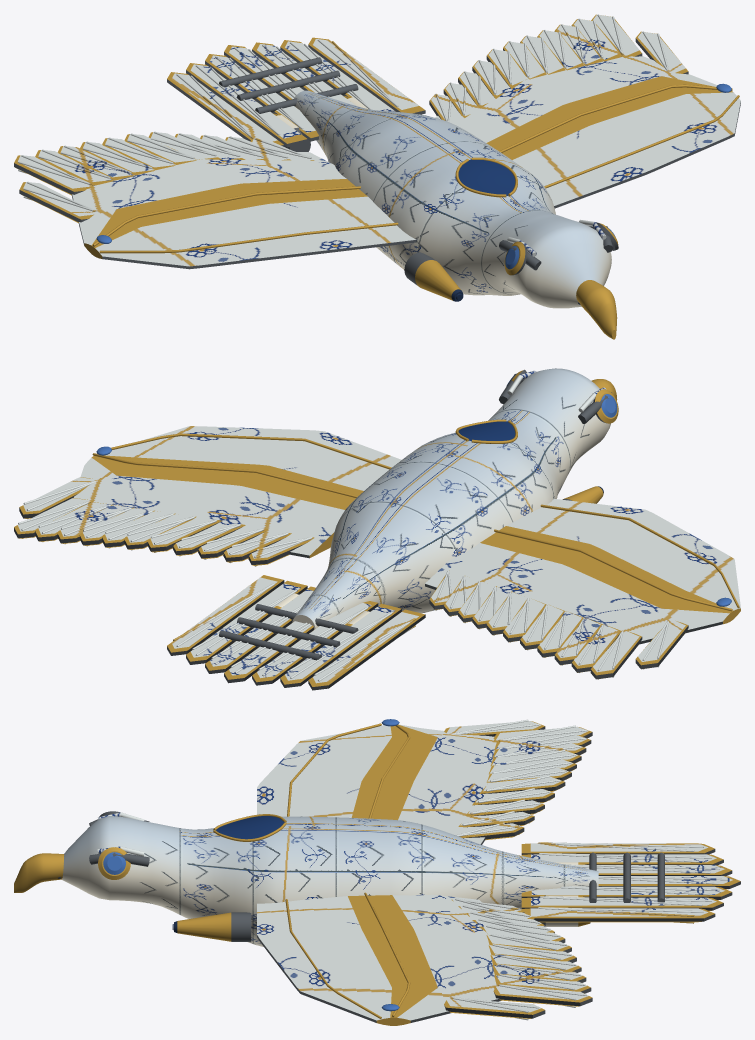
3 views of the same model, one above another, from view 1: azimuth 30°, elevation 25°; view 2: azimuth 150°, elevation 25°; view 3: azimuth 270°, elevation 25° (orthographic). The views are drawn at different scales.
Visible parts, largest first — view 1: goshawk_hull; view 2: goshawk_hull; view 3: goshawk_hull.
Boxes of the visible parts, bbox=[...] form: goshawk_hull: bbox=[14, 14, 740, 339]; goshawk_hull: bbox=[14, 368, 740, 690]; goshawk_hull: bbox=[14, 719, 740, 1025].
Size of the model in its own units: 40.23 by 7.54 by 42.
1 material, 1 textured.
